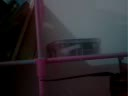window: (1, 1, 48, 96), (56, 68, 84, 96), (51, 31, 75, 47), (105, 74, 123, 91), (101, 47, 108, 54)
